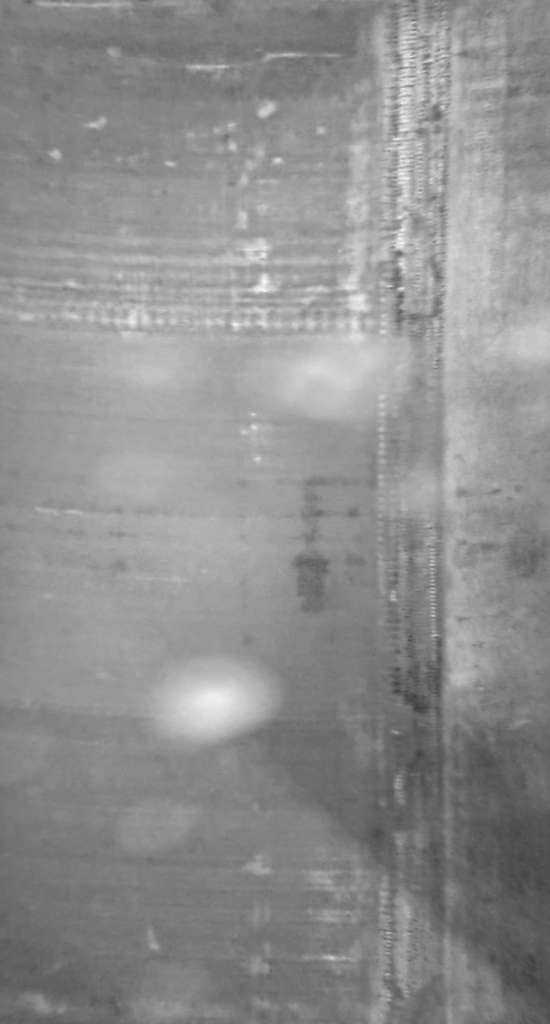splice: (377, 4, 458, 1024)
